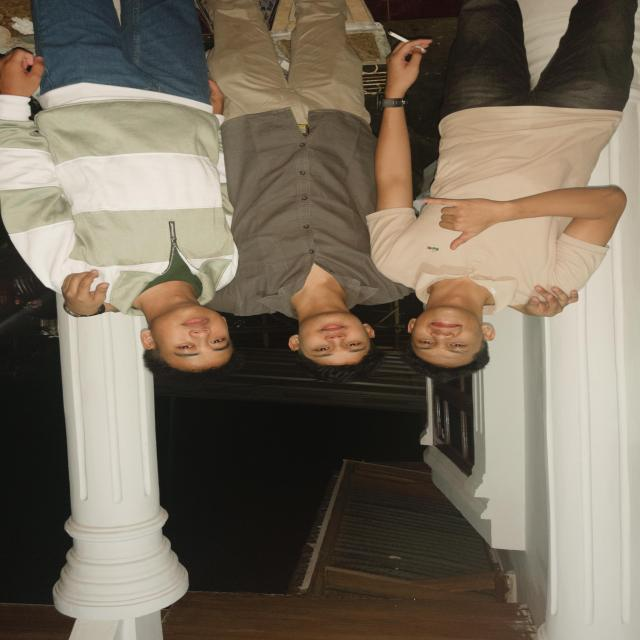nohelmet: (126, 304, 253, 384), (395, 296, 497, 380), (277, 303, 382, 382)
